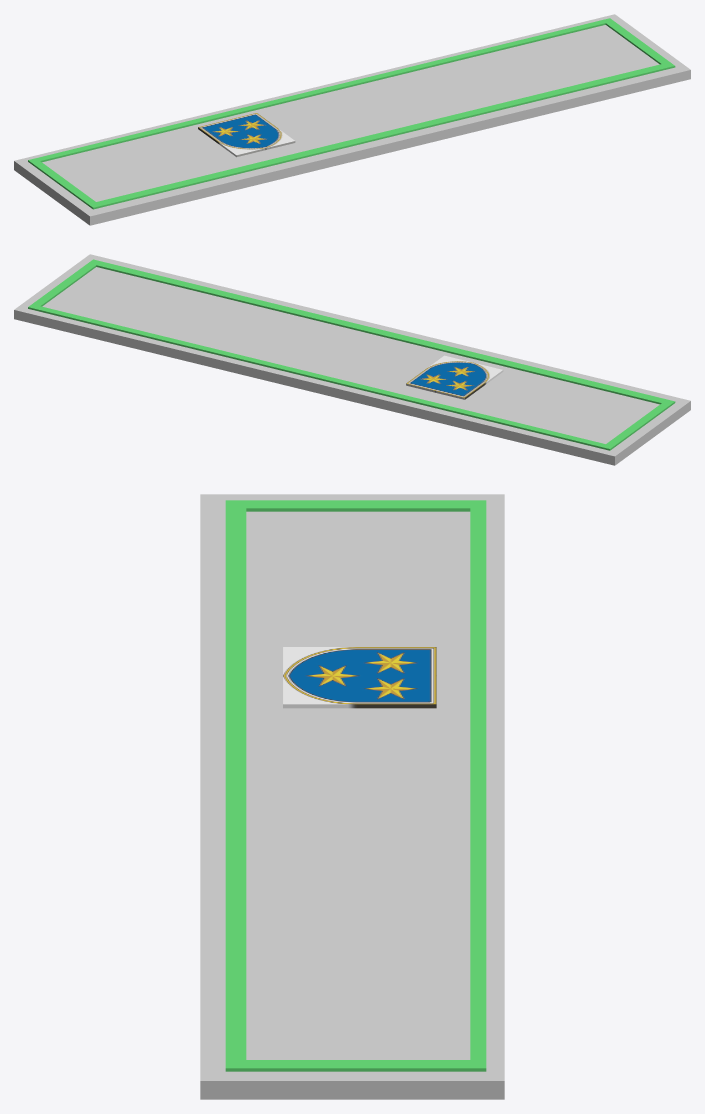
File: tablica_fixed.fbx
3 renders of one model, top to bottom at view 1: azimuth 30°, elevation 25°; view 2: azimuth 150°, elevation 25°; view 3: azimuth 270°, elevation 25°, orthographic. The views are drawn at different scales.
Parts seen in each view (by area): view 1: Plane; view 2: Plane; view 3: Plane.
Part boxes in pixels (left/top/right/bottom): Plane: left=14, top=14, right=690, bottom=225; Plane: left=14, top=254, right=690, bottom=465; Plane: left=200, top=494, right=504, bottom=1099.
Size of the model in its own units: 912 by 21.13 by 200.
Materials: 3 (1 with a texture image).
